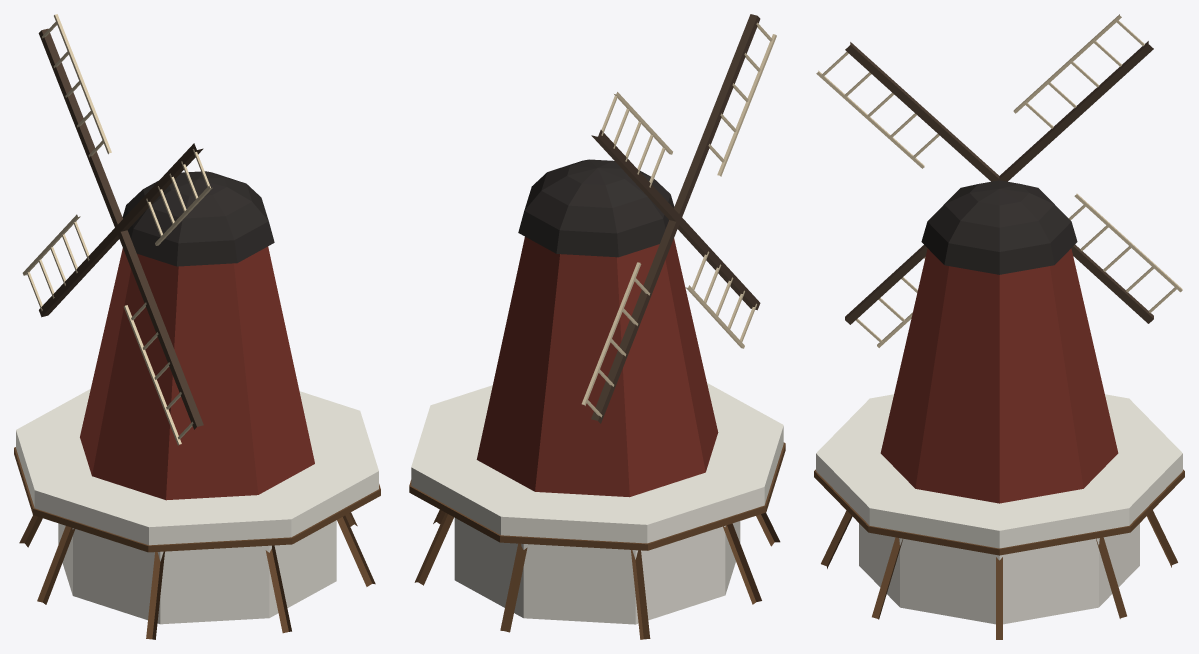
Rendered from oldemolen.glb.
3 renders of one model, left to right at view 1: azimuth 30°, elevation 25°; view 2: azimuth 150°, elevation 25°; view 3: azimuth 270°, elevation 25°, orthographic. The views are drawn at different scales.
Parts seen in each view (by area): view 1: oldemolen_lod0; view 2: oldemolen_lod0; view 3: oldemolen_lod0.
Boxes of the visible parts, x1,y1,x2,y2 form: oldemolen_lod0: (14,14,380,639); oldemolen_lod0: (409,14,785,639); oldemolen_lod0: (814,14,1184,639).
Size of what is drawn, in the model's own units: 19 by 29.14 by 19.
